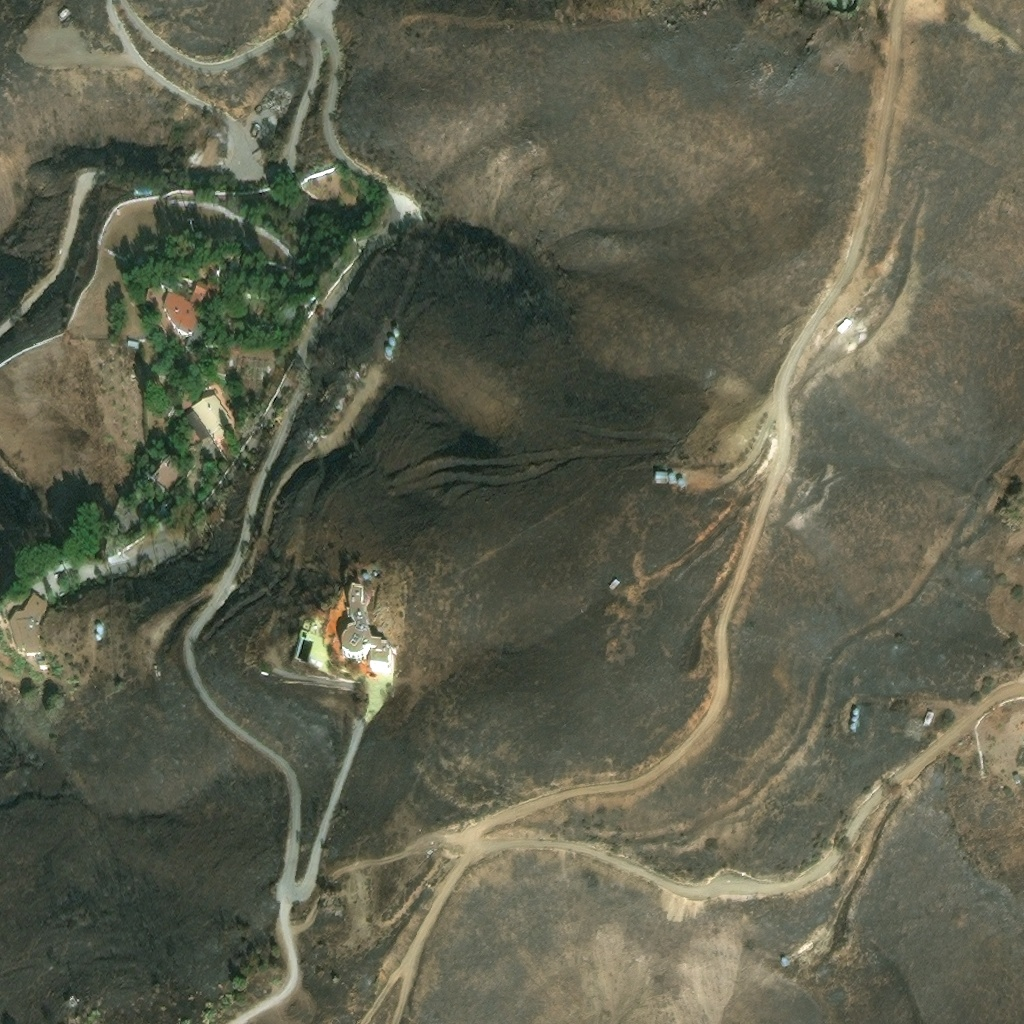0 no-damage: (340, 583, 393, 671), (162, 281, 214, 338), (7, 592, 50, 659), (183, 392, 236, 444), (147, 449, 192, 495), (106, 494, 147, 535), (286, 187, 324, 222), (835, 319, 852, 337), (55, 7, 72, 24), (921, 712, 936, 730), (133, 187, 153, 197), (606, 579, 620, 593), (653, 473, 668, 485), (122, 339, 140, 349), (383, 342, 394, 353), (37, 660, 48, 670), (1012, 775, 1021, 786), (668, 473, 677, 484), (846, 725, 857, 734), (387, 333, 397, 341), (93, 634, 102, 642), (95, 623, 104, 631), (392, 326, 400, 335), (780, 958, 787, 968), (851, 710, 859, 718), (850, 717, 858, 725), (677, 479, 683, 486)
3 destroyed: (261, 84, 292, 110), (318, 423, 328, 434), (981, 671, 989, 679)
